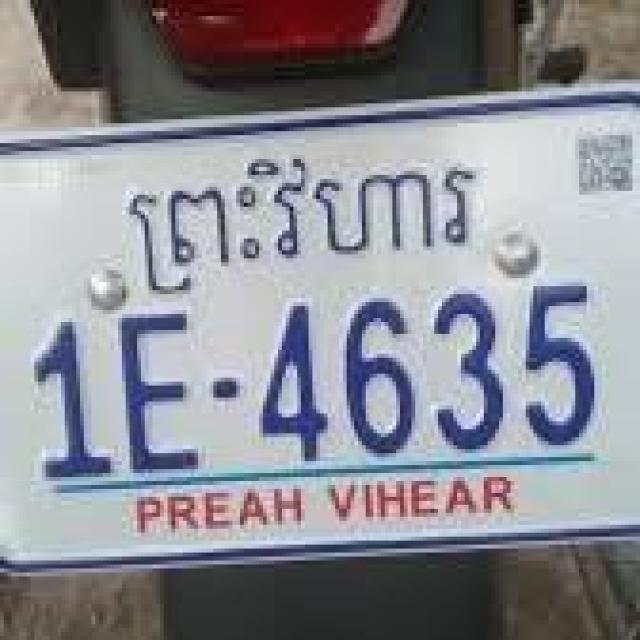Preah_Vihear: (126, 155, 484, 304)
